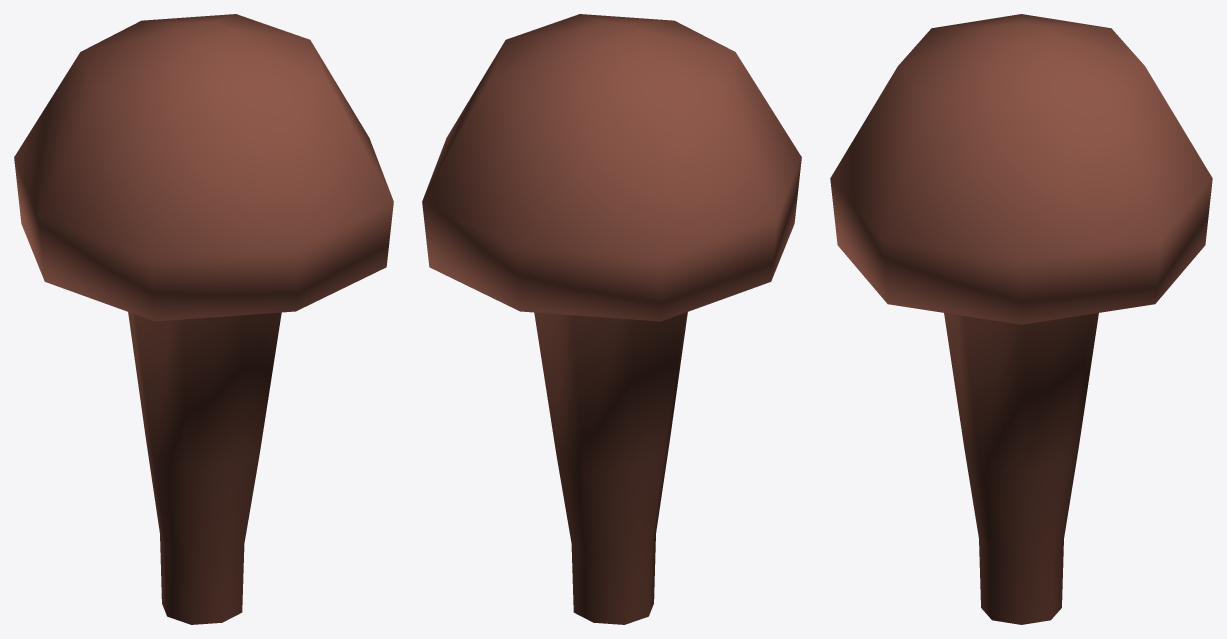
File: Mashroom_10.fbx
The picture shows the model from 3 angles, left to right: view 1: azimuth 30°, elevation 25°; view 2: azimuth 150°, elevation 25°; view 3: azimuth 270°, elevation 25°; orthographic projection.
Parts seen in each view (by area): view 1: Mashroom_10; view 2: Mashroom_10; view 3: Mashroom_10.
Boxes of the visible parts, x1=… form: Mashroom_10: x1=14, y1=14, x2=393, y2=624; Mashroom_10: x1=422, y1=14, x2=801, y2=624; Mashroom_10: x1=830, y1=14, x2=1212, y2=624.
Bounding box in the file's own units: 28.79 × 47.53 × 28.79.
